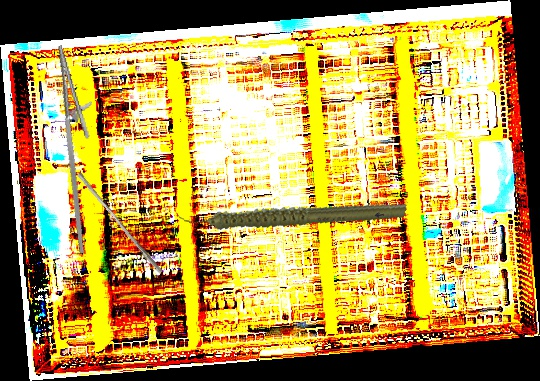Handpiece: (176, 159, 408, 267)
Needle Holder: (32, 41, 125, 254)
Pusher: (73, 172, 167, 274)
